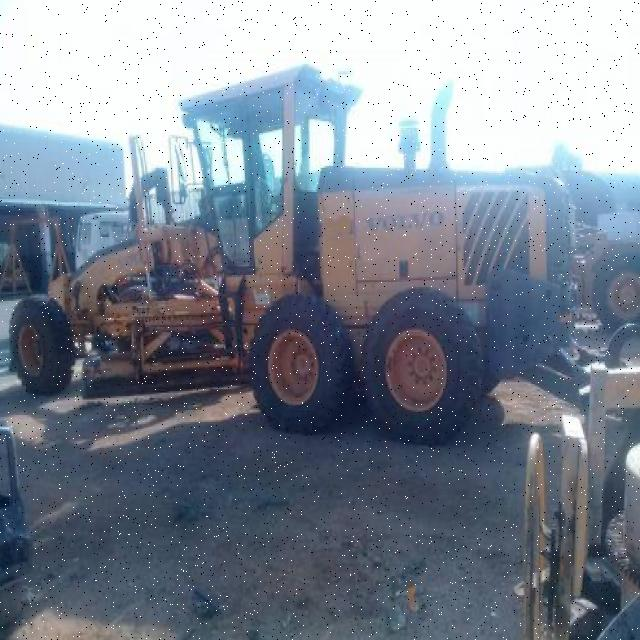Grader: (9, 45, 591, 451)
